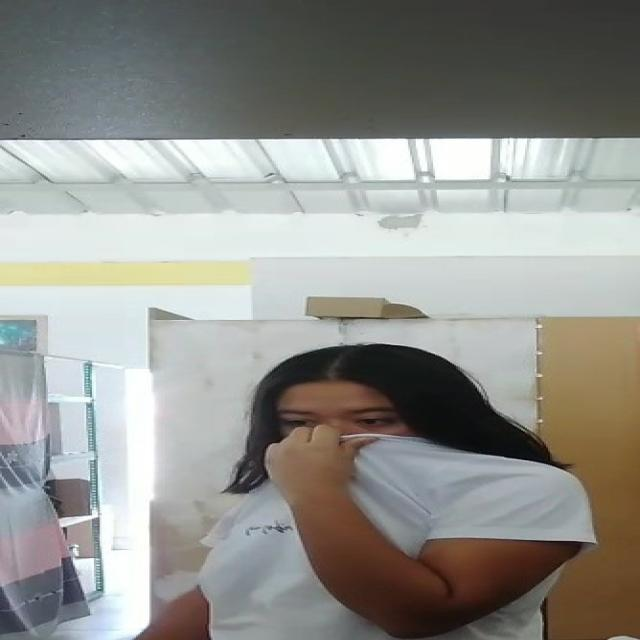8_ropa_rostro: (255, 421, 514, 510)
